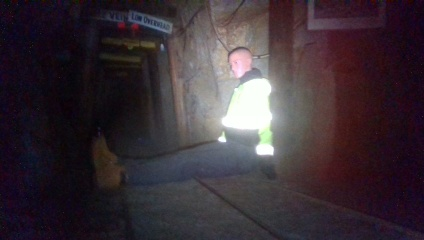manikin: (90, 47, 276, 191)
